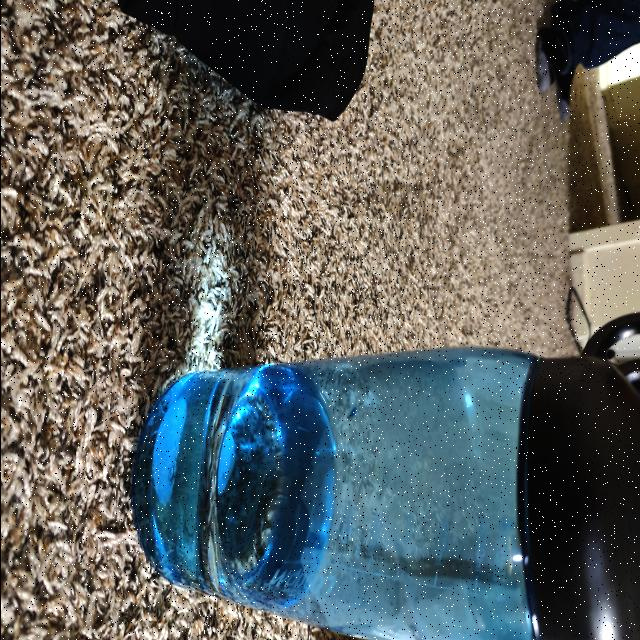bottle: (139, 312, 640, 640)
